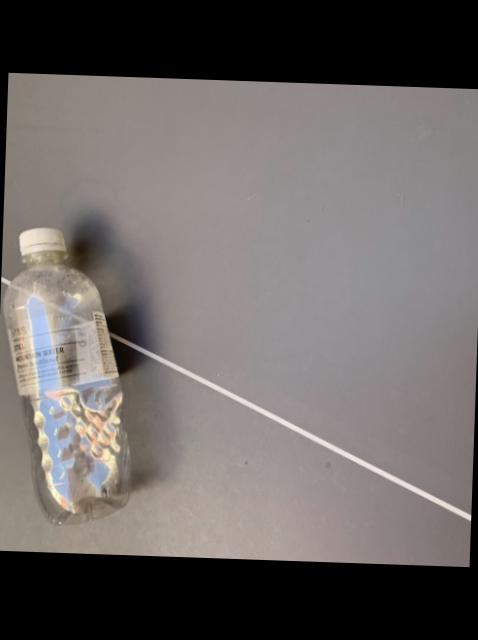plastic: (1, 229, 127, 525)
